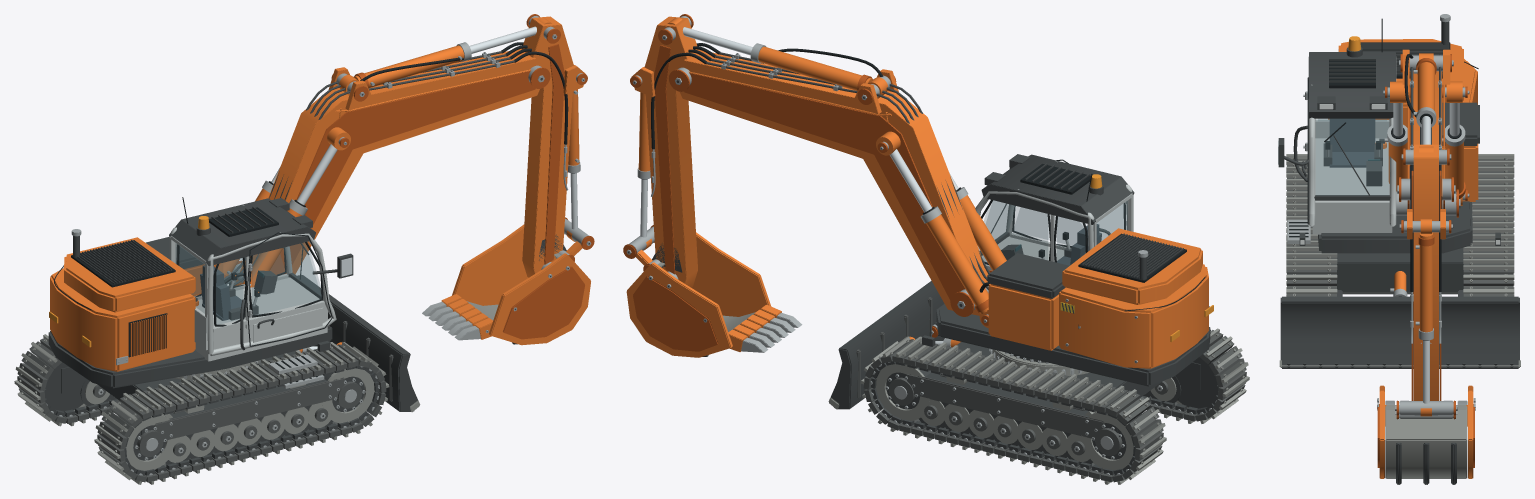
The model's file is excavator.glb.
3 renders of one model, left to right at view 1: azimuth 30°, elevation 25°; view 2: azimuth 150°, elevation 25°; view 3: azimuth 270°, elevation 25°, orthographic. The views are drawn at different scales.
Visible parts, largest first — view 1: EXC / boxed boom welds and reinforcements, EXC / orange upper carriage and counterweight, EXC / 104 individual crawler shoes, EXC / cab frame door roof and glazing seals, EXC / hollow digging bucket and wear liners, EXC / dipper arm and pivot housings, EXC / sprockets idlers and rollers, EXC / engine vents service panels and trim, EXC / transparent cabin glazing, EXC / lower chassis and swing bearing, EXC / hydraulic barrels chrome rods and pin eyes, EXC / curved dozer blade and lift linkage (+6 smaller); view 2: EXC / orange upper carriage and counterweight, EXC / boxed boom welds and reinforcements, EXC / 104 individual crawler shoes, EXC / hollow digging bucket and wear liners, EXC / dipper arm and pivot housings, EXC / sprockets idlers and rollers, EXC / hydraulic barrels chrome rods and pin eyes, EXC / cab frame door roof and glazing seals, EXC / lower chassis and swing bearing, EXC / curved dozer blade and lift linkage, EXC / transparent cabin glazing, EXC / engine vents service panels and trim (+6 smaller); view 3: EXC / curved dozer blade and lift linkage, EXC / cab frame door roof and glazing seals, EXC / 104 individual crawler shoes, EXC / hydraulic barrels chrome rods and pin eyes, EXC / orange upper carriage and counterweight, EXC / hollow digging bucket and wear liners, EXC / dipper arm and pivot housings, EXC / transparent cabin glazing, EXC / mirrors wipers lamps and access steps, EXC / lower chassis and swing bearing, EXC / boxed boom welds and reinforcements, EXC / seat controls pedals and displays (+4 smaller).
Boxes of the visible parts, x1=… form: EXC / boxed boom welds and reinforcements: x1=232, y1=48, x2=550, y2=285; EXC / orange upper carriage and counterweight: x1=48, y1=236, x2=332, y2=388; EXC / 104 individual crawler shoes: x1=14, y1=334, x2=389, y2=484; EXC / cab frame door roof and glazing seals: x1=169, y1=198, x2=336, y2=361; EXC / hollow digging bucket and wear liners: x1=452, y1=224, x2=590, y2=345; EXC / dipper arm and pivot housings: x1=521, y1=14, x2=587, y2=277; EXC / sprockets idlers and rollers: x1=37, y1=356, x2=374, y2=470; EXC / engine vents service panels and trim: x1=49, y1=229, x2=332, y2=365; EXC / transparent cabin glazing: x1=175, y1=242, x2=321, y2=324; EXC / lower chassis and swing bearing: x1=60, y1=351, x2=356, y2=440; EXC / hydraulic barrels chrome rods and pin eyes: x1=223, y1=17, x2=580, y2=352; EXC / curved dozer blade and lift linkage: x1=297, y1=275, x2=420, y2=412; EXC / orange upper carriage and counterweight: x1=936, y1=228, x2=1210, y2=386; EXC / boxed boom welds and reinforcements: x1=669, y1=49, x2=992, y2=316; EXC / 104 individual crawler shoes: x1=860, y1=328, x2=1249, y2=484; EXC / hollow digging bucket and wear liners: x1=626, y1=232, x2=771, y2=357; EXC / dipper arm and pivot housings: x1=630, y1=14, x2=698, y2=287; EXC / sprockets idlers and rollers: x1=875, y1=352, x2=1225, y2=470; EXC / hydraulic barrels chrome rods and pin eyes: x1=637, y1=17, x2=1006, y2=347; EXC / cab frame door roof and glazing seals: x1=975, y1=154, x2=1134, y2=270; EXC / lower chassis and swing bearing: x1=895, y1=342, x2=1201, y2=438; EXC / curved dozer blade and lift linkage: x1=828, y1=281, x2=944, y2=409; EXC / transparent cabin glazing: x1=978, y1=200, x2=1127, y2=265; EXC / engine vents service panels and trim: x1=1015, y1=159, x2=1213, y2=342; EXC / curved dozer blade and lift linkage: x1=1279, y1=290, x2=1520, y2=368; EXC / cab frame door roof and glazing seals: x1=1308, y1=52, x2=1396, y2=234; EXC / 104 individual crawler shoes: x1=1286, y1=154, x2=1514, y2=296; EXC / hydraulic barrels chrome rods and pin eyes: x1=1384, y1=53, x2=1467, y2=416; EXC / orange upper carriage and counterweight: x1=1318, y1=39, x2=1479, y2=253; EXC / hollow digging bucket and wear liners: x1=1377, y1=385, x2=1474, y2=484; EXC / dipper arm and pivot housings: x1=1401, y1=144, x2=1451, y2=400; EXC / transparent cabin glazing: x1=1316, y1=118, x2=1388, y2=195; EXC / mirrors wipers lamps and access steps: x1=1278, y1=18, x2=1500, y2=245; EXC / lower chassis and swing bearing: x1=1337, y1=248, x2=1463, y2=294; EXC / boxed boom welds and reinforcements: x1=1396, y1=49, x2=1458, y2=217; EXC / seat controls pedals and displays: x1=1323, y1=118, x2=1386, y2=186.
Size of the model in its own units: 9.29 by 5.19 by 3.35.
